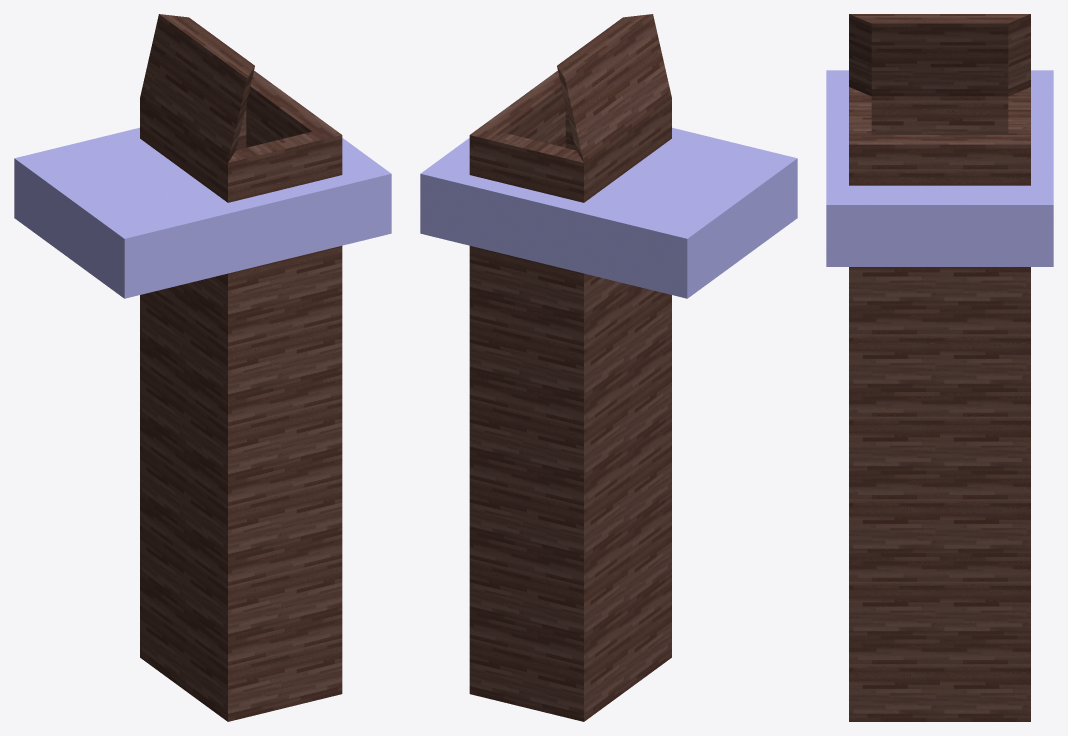
File: HarvestBox.fbx
3 renders of one model, left to right at view 1: azimuth 30°, elevation 25°; view 2: azimuth 150°, elevation 25°; view 3: azimuth 270°, elevation 25°, orthographic. The views are drawn at different scales.
Visible parts, largest first — view 1: MaterialMesh_1, MaterialMesh; view 2: MaterialMesh_1, MaterialMesh; view 3: MaterialMesh_1, MaterialMesh.
Part boxes in pixels (bbox=[...]): MaterialMesh_1: bbox=[140, 14, 342, 721]; MaterialMesh: bbox=[14, 127, 391, 298]; MaterialMesh_1: bbox=[469, 14, 671, 721]; MaterialMesh: bbox=[420, 127, 797, 298]; MaterialMesh_1: bbox=[849, 14, 1030, 721]; MaterialMesh: bbox=[826, 70, 1053, 266].
Bounding box in the file's own units: 700 × 1600 × 500.
